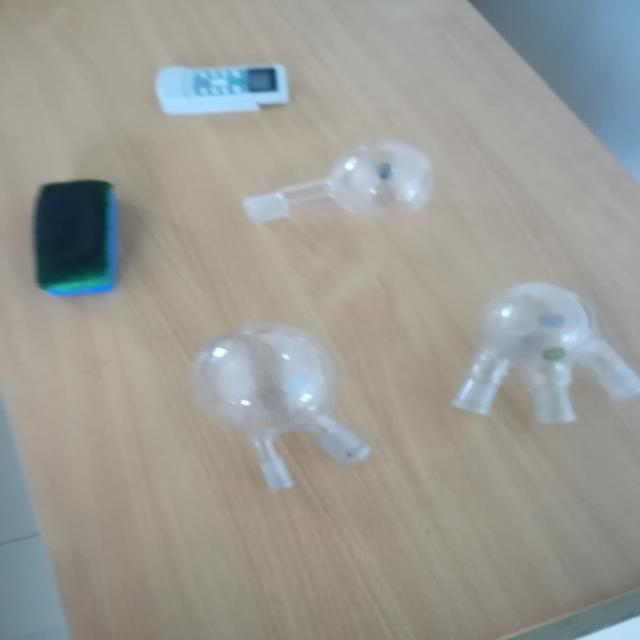Round_Bottom_Flask_Borosilicate_Glass_1_Neck: (198, 125, 476, 244)
Round_Bottom_Flask_Borosilicate_Glass_2_Neck: (168, 300, 396, 506)
Round_Bottom_Flask_Borosilicate_Glass_3_Neck: (445, 279, 640, 464)
